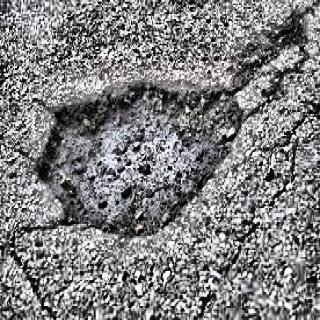alligator-crack: (226, 0, 320, 301)
pothole: (32, 74, 244, 248)
